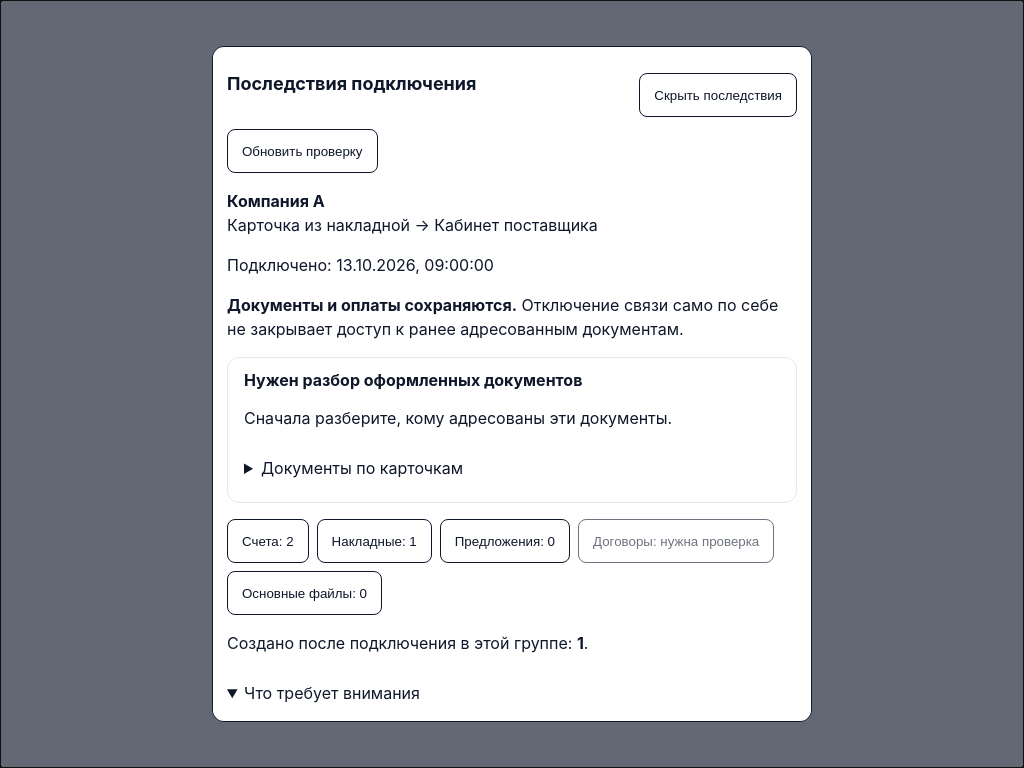
Test: issued history distinguishes original card from cabinet and hides inapplicable correction commands
The image size is (1024, 768).
Expected: the heading "Нужен разбор оформленных документов" is shown, left=244, top=370, right=582, bottom=390
Click the heading "Документы по карточкам" at (362, 468), box left=261, top=458, right=463, bottom=478
(page scrolled)
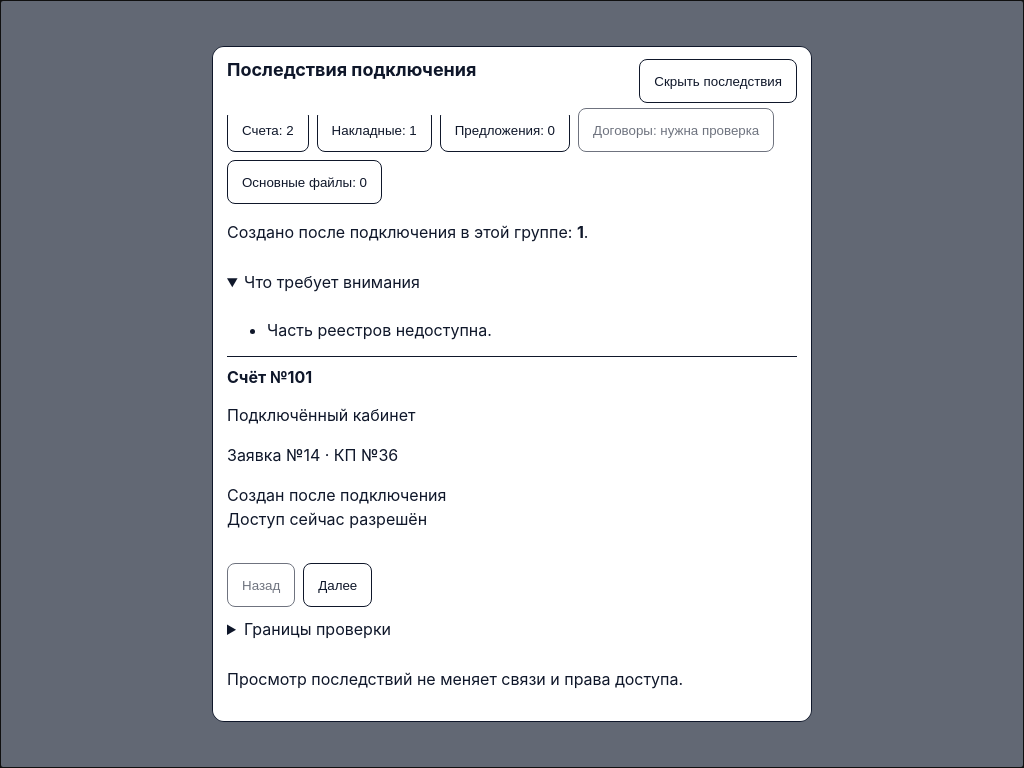
Expected: the text "Заявка №14 · КП №36" is shown, left=227, top=445, right=398, bottom=465
